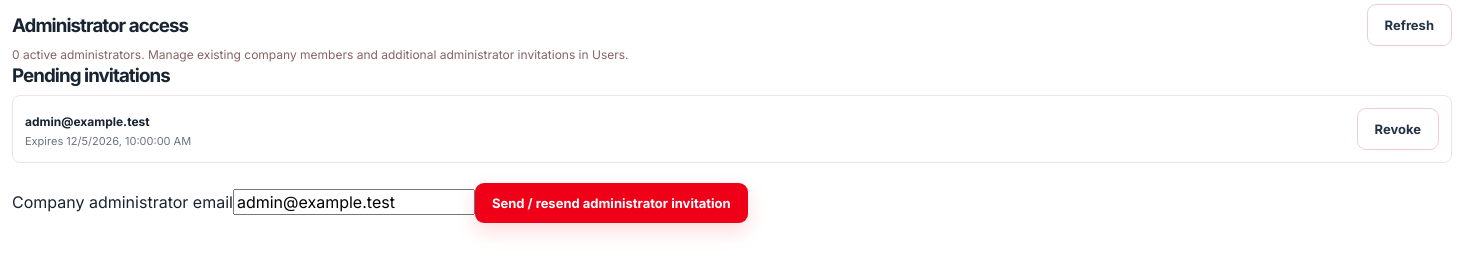
Test: Company administrator access › revokes a pending invitation after confirmation and refreshes the list
Click the button "Revoke": (1398, 129) x1=1357 y1=108 x2=1439 y2=150
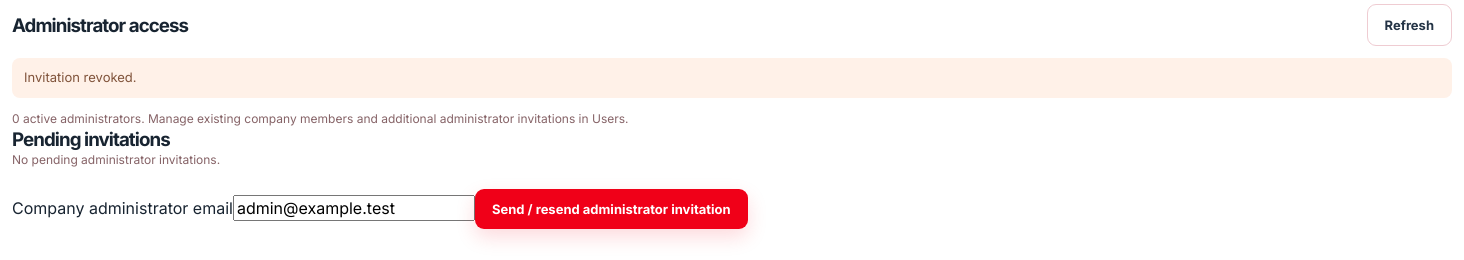
Expected: the text "No pending administrator invitations." is shown, x1=12 y1=152 x2=220 y2=166
